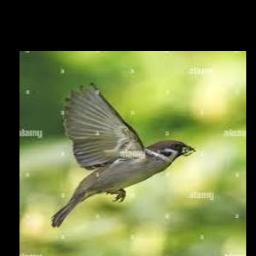Sparrow: (51, 83, 195, 227)
